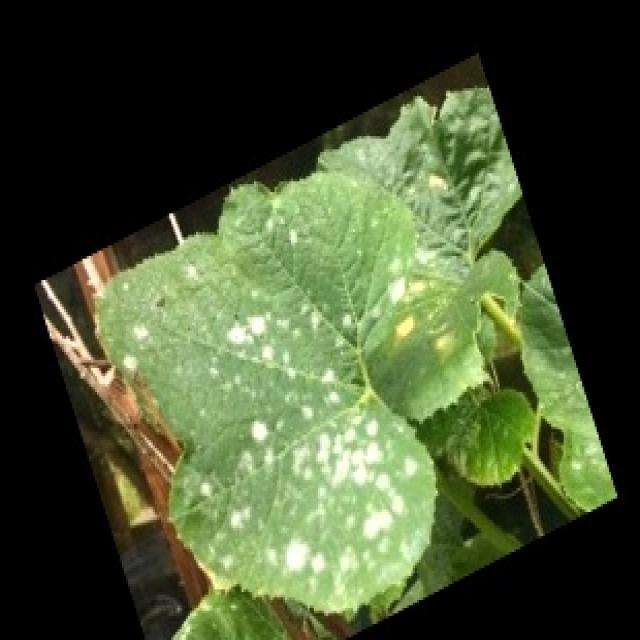Leaf_Mold: (84, 174, 441, 615), (230, 290, 304, 420)
